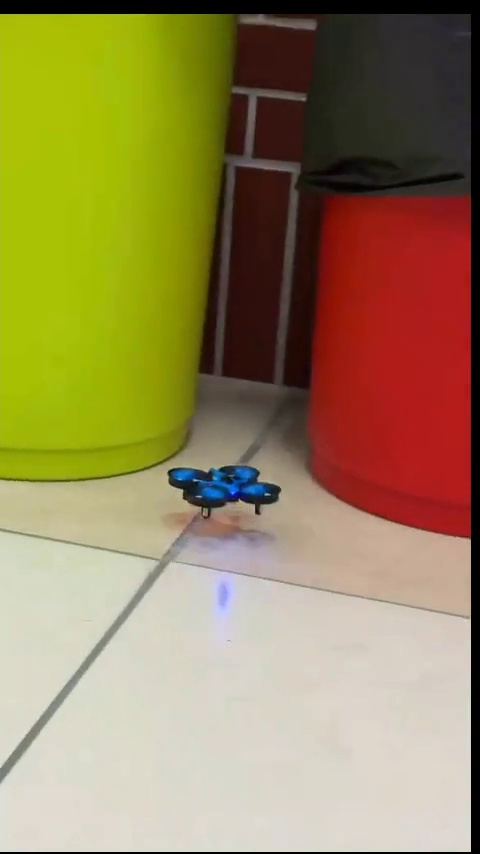drone: (165, 461, 278, 524)
